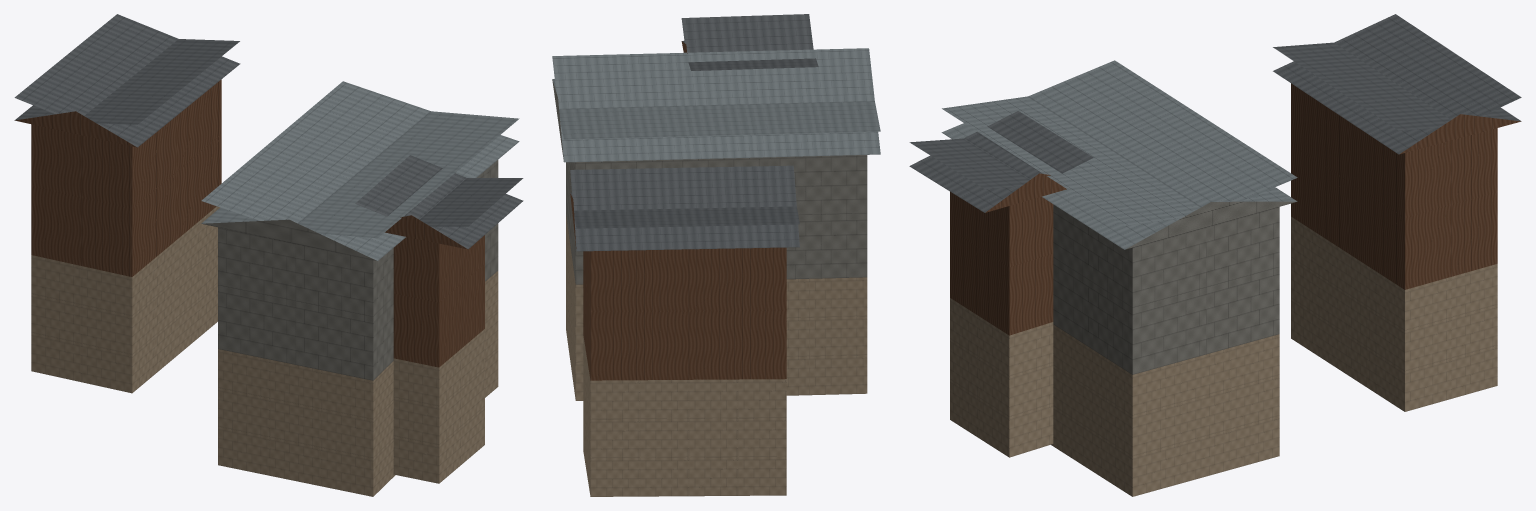
Rendered from bld_c23_44_383.gltf.
3 views of the same model, side by side, from view 1: azimuth 30°, elevation 25°; view 2: azimuth 150°, elevation 25°; view 3: azimuth 270°, elevation 25° (orthographic). The views are drawn at different scales.
Parts seen in each view (by area): view 1: bld_c23_44_383; view 2: bld_c23_44_383; view 3: bld_c23_44_383.
Boxes of the visible parts, x1,y1,x2,y2 form: bld_c23_44_383: [14, 14, 523, 496]; bld_c23_44_383: [552, 14, 880, 496]; bld_c23_44_383: [909, 14, 1521, 496].
Size of the model in its own units: 17.28 by 12.5 by 23.2.
Materials: 7 (7 with a texture image).
